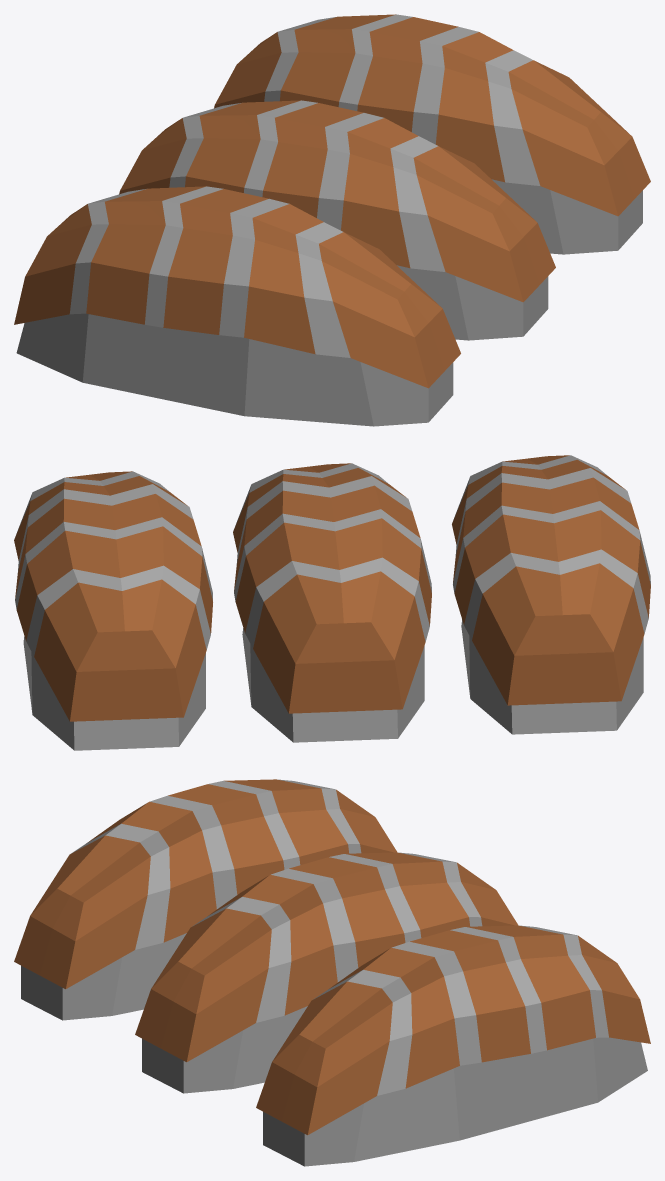
File: Sushi Nigiri.glb
3 views of the same model, one above another, from view 1: azimuth 30°, elevation 25°; view 2: azimuth 150°, elevation 25°; view 3: azimuth 270°, elevation 25° (orthographic). The views are drawn at different scales.
Visible parts, largest first — view 1: Sushi_Nigiri1.003, Sushi_Nigiri1.001, Sushi_Nigiri1.002; view 2: Sushi_Nigiri1.002, Sushi_Nigiri1.003, Sushi_Nigiri1.001; view 3: Sushi_Nigiri1.002, Sushi_Nigiri1.003, Sushi_Nigiri1.001.
Boxes of the visible parts, left/top/right/bottom form: Sushi_Nigiri1.003: left=14, top=186, right=460, bottom=426; Sushi_Nigiri1.001: left=119, top=100, right=555, bottom=340; Sushi_Nigiri1.002: left=214, top=14, right=650, bottom=254; Sushi_Nigiri1.002: left=14, top=471, right=212, bottom=750; Sushi_Nigiri1.003: left=452, top=455, right=650, bottom=734; Sushi_Nigiri1.001: left=233, top=463, right=431, bottom=742; Sushi_Nigiri1.002: left=256, top=925, right=650, bottom=1166; Sushi_Nigiri1.003: left=14, top=779, right=396, bottom=1020; Sushi_Nigiri1.001: left=135, top=852, right=517, bottom=1093.
Size of the model in its own units: 0.9516 by 0.2344 by 0.906.
